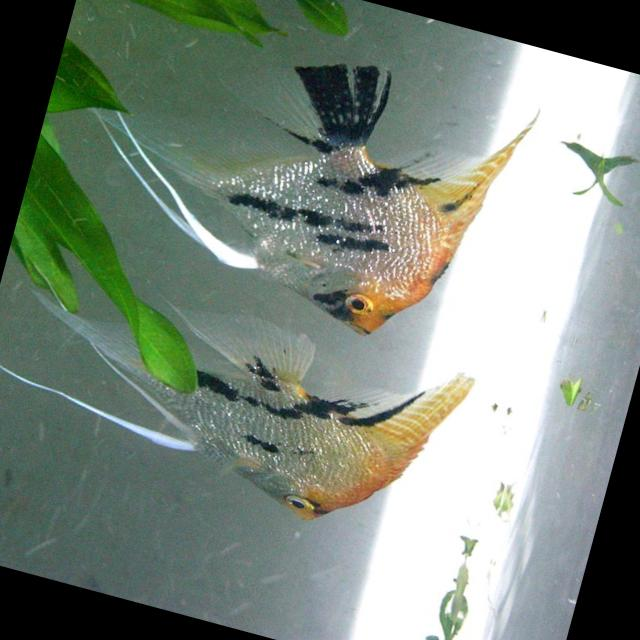AngelFish: (101, 10, 544, 364), (29, 272, 484, 556)
